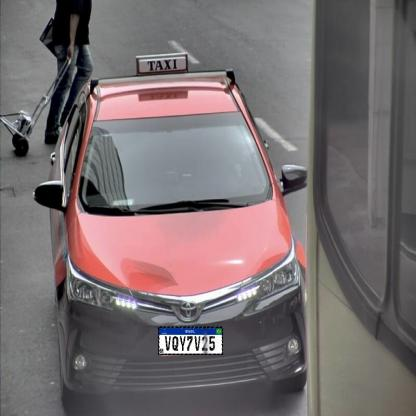PlacaM: (158, 327, 223, 355)
